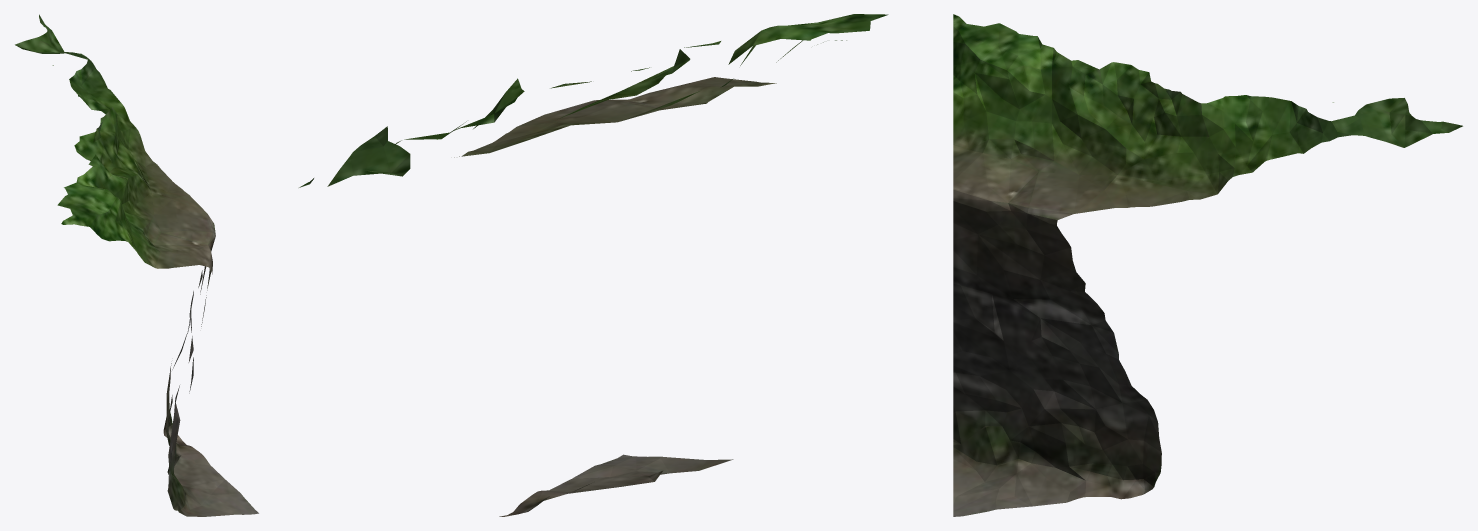
3 views of the same model, side by side, from view 1: azimuth 30°, elevation 25°; view 2: azimuth 150°, elevation 25°; view 3: azimuth 270°, elevation 25° (orthographic). The views are drawn at different scales.
Bounding box in the file's own units: 0.8387 × 1.37 × 1.62.
1 material, 1 textured.
